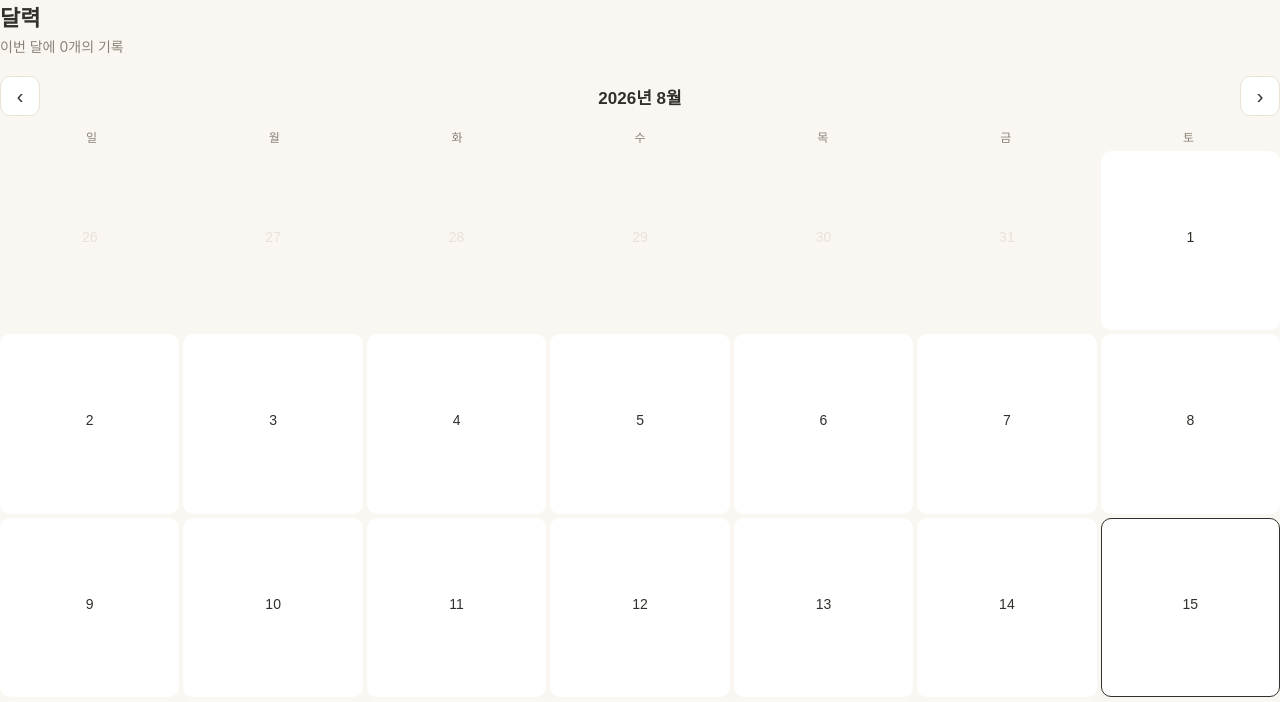
CalendarPage › 이전 달과 다음 달로 넘길 수 있다
Expected: the button "2026년 8월" is shown, x1=592 y1=82 x2=688 y2=110
Click the button named "이전 달" at {"x": 20, "y": 96}, box x1=0 y1=76 x2=40 y2=116
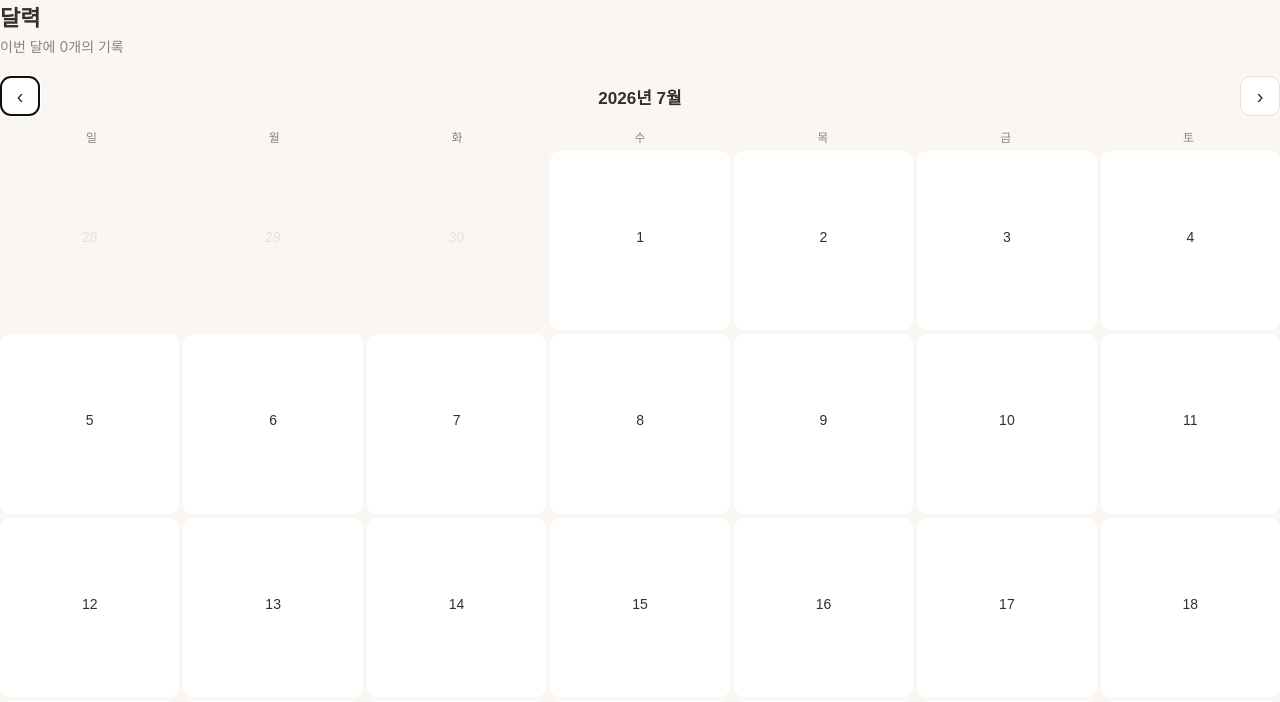
Expected: the button "2026년 7월" is shown, x1=592 y1=82 x2=688 y2=110
Click the button named "다음 달" at {"x": 1260, "y": 96}, box x1=1240 y1=76 x2=1279 y2=116
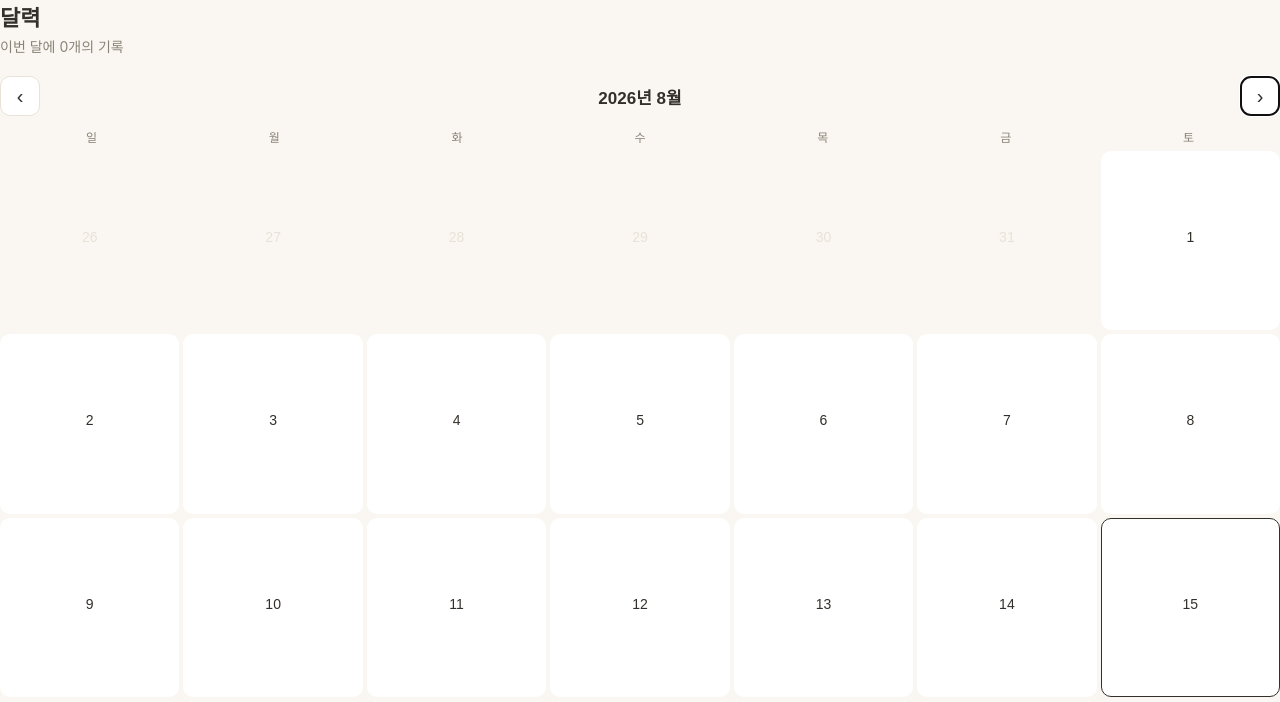
Click the button named "다음 달" at {"x": 1260, "y": 96}, box x1=1240 y1=76 x2=1279 y2=116
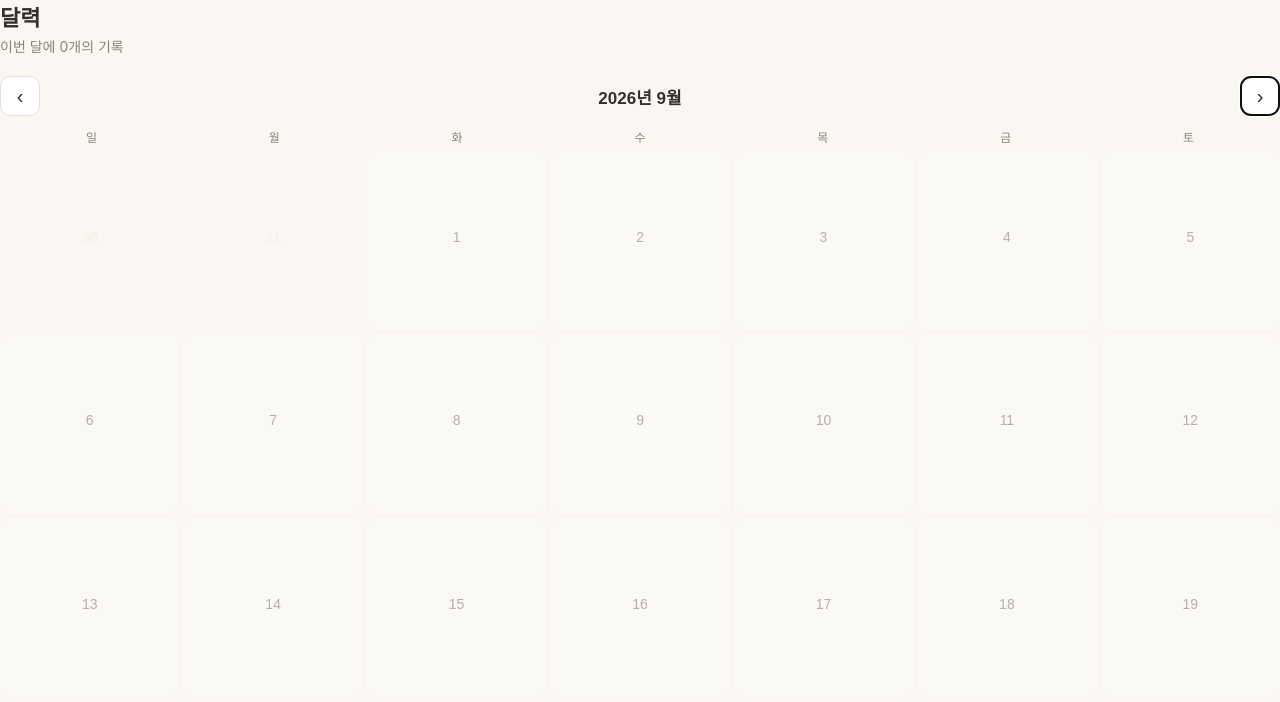
Expected: the button "2026년 9월" is shown, x1=592 y1=82 x2=688 y2=110
